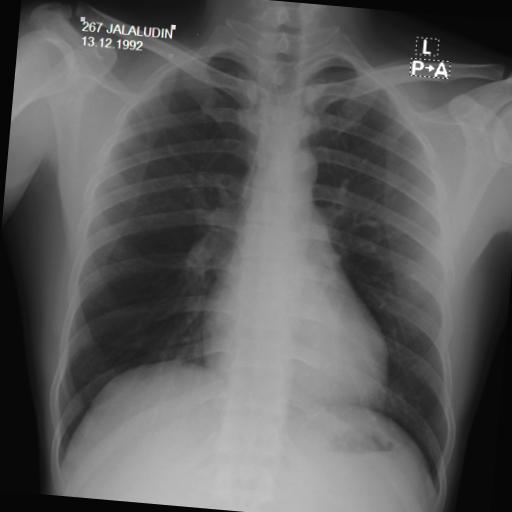kardiomegali: (41, 27, 486, 501)
